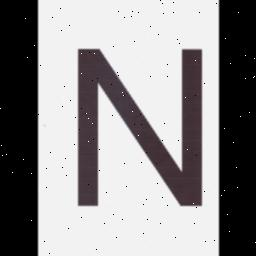n: (66, 37, 214, 215)
